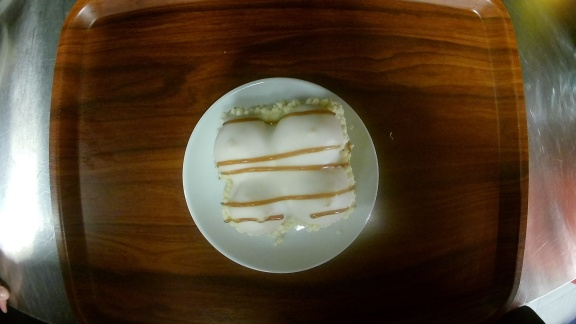beyazpasta: (183, 76, 380, 272)
